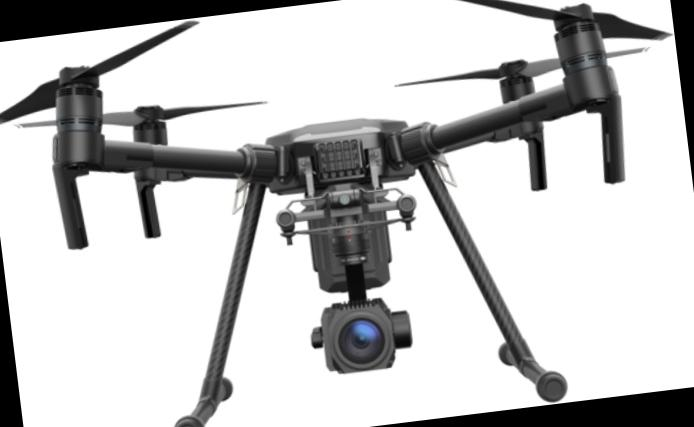drone: (0, 0, 686, 294)
